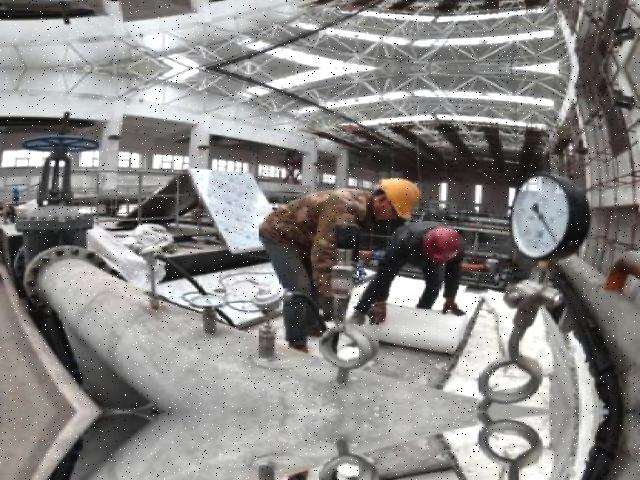Helmet: (378, 172, 428, 229), (420, 220, 470, 268)
